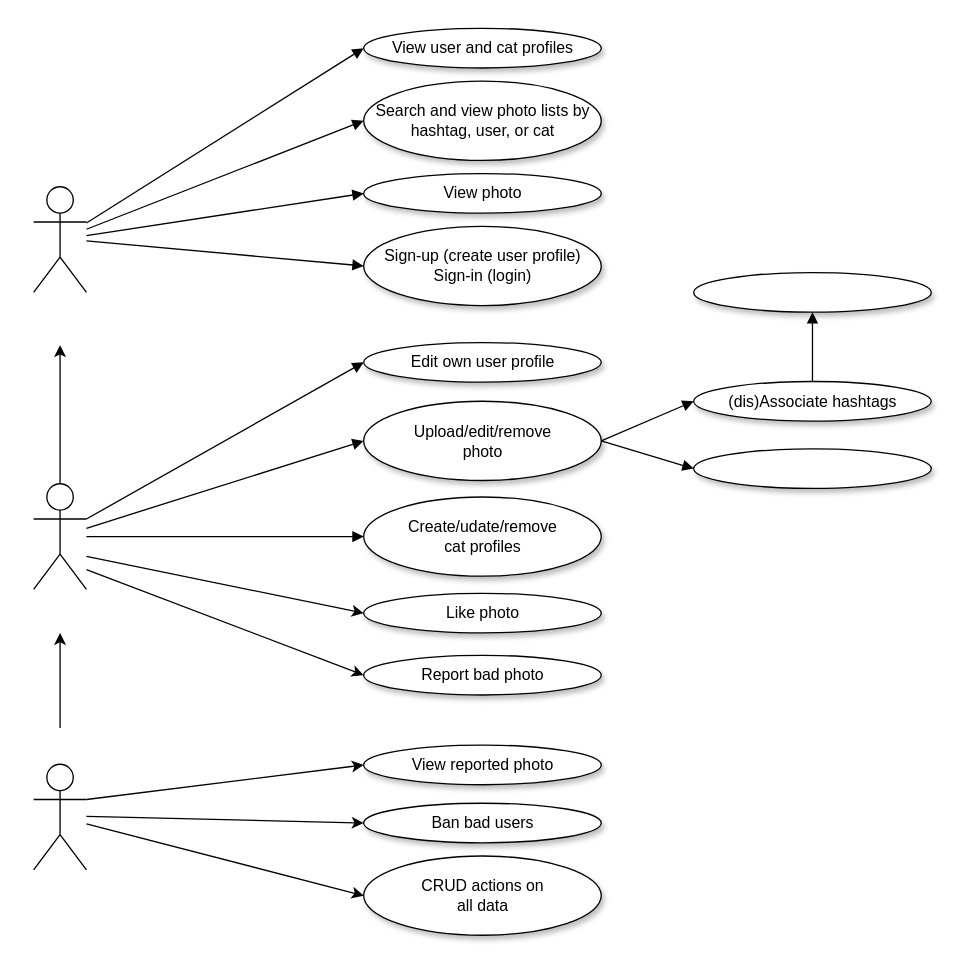
The diagram is 962 pixels wide and 968 high, and some of its shapes have lost their labels. The shapes that lost their labels are listed below. From the top down, each one's centre as x and y in pixels, then its label:
At point 59,238: "Guest".
At point 813,293: "Create new hashtags".
At point 813,470: "Tag/untag cat".
At point 59,535: "User".
At point 59,816: "Admin".
